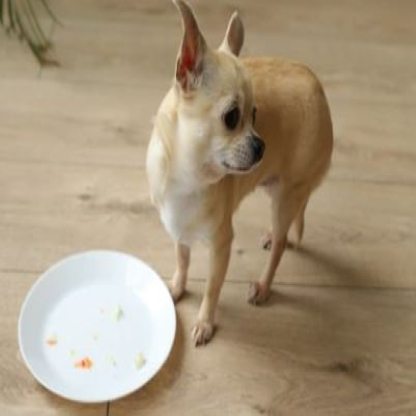chihuahua: (142, 3, 335, 348)
